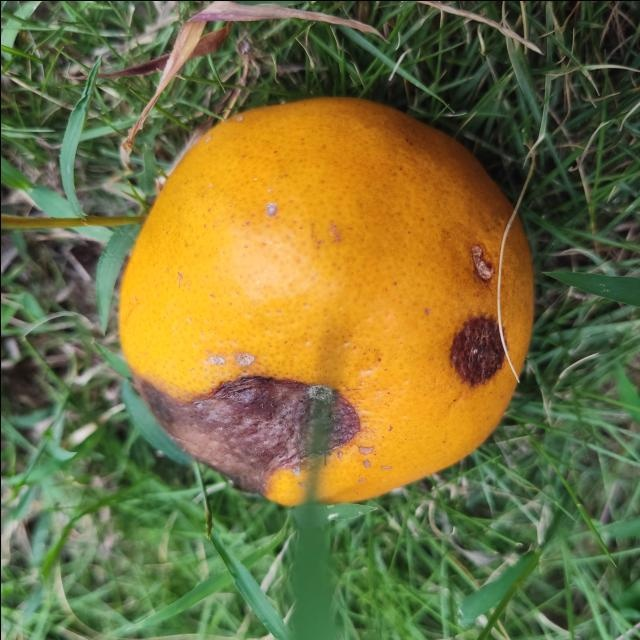agrume: (118, 94, 530, 509)
